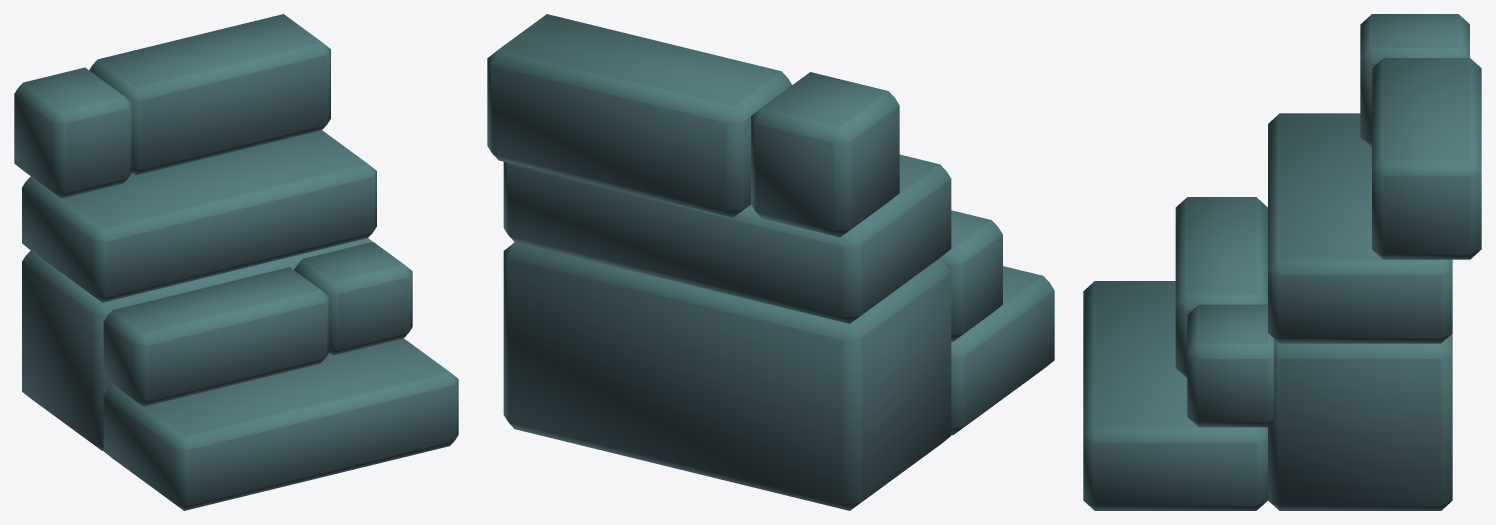
The model's file is stair_straight_2_hue_1.fbx.
The picture shows the model from 3 angles, left to right: view 1: azimuth 30°, elevation 25°; view 2: azimuth 150°, elevation 25°; view 3: azimuth 270°, elevation 25°; orthographic projection. The views are drawn at different scales.
Parts seen in each view (by area): view 1: stair_straight_2_hue_1; view 2: stair_straight_2_hue_1; view 3: stair_straight_2_hue_1.
Part boxes in pixels (x1=…): stair_straight_2_hue_1: x1=14, y1=14, x2=458, y2=510; stair_straight_2_hue_1: x1=487, y1=14, x2=1054, y2=510; stair_straight_2_hue_1: x1=1083, y1=14, x2=1481, y2=510.
Size of the model in its own units: 100 by 105 by 108.
